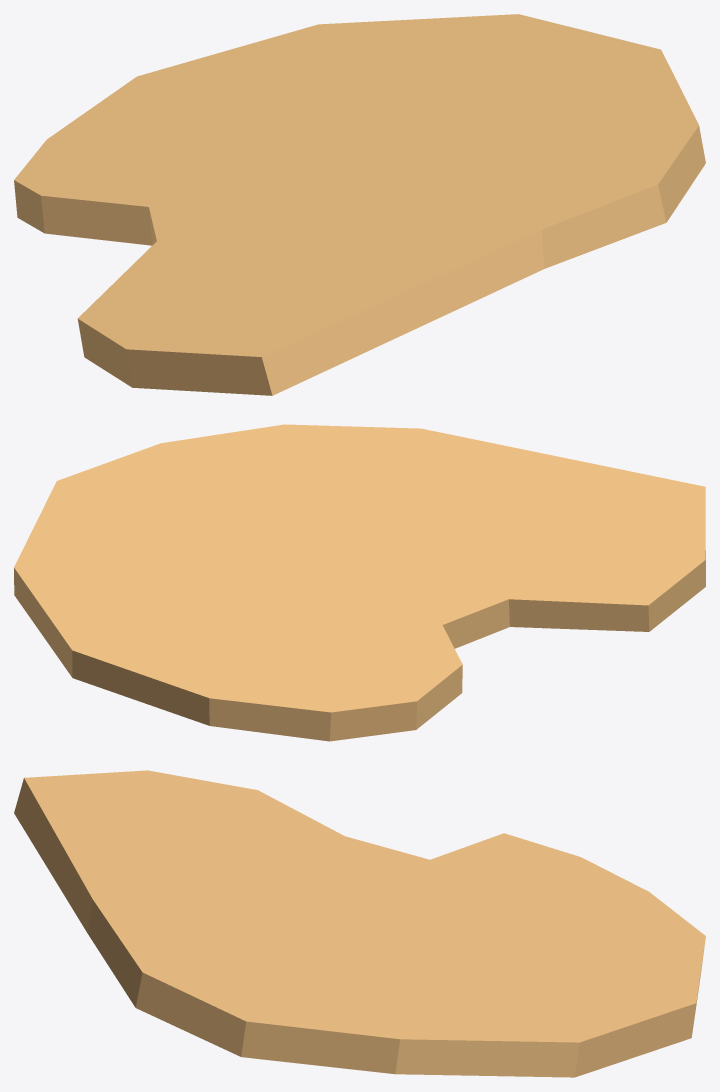
Rendered from group1574860539_lev3.glb.
The picture shows the model from 3 angles, top to bottom: view 1: azimuth 30°, elevation 25°; view 2: azimuth 150°, elevation 25°; view 3: azimuth 270°, elevation 25°; orthographic projection. The views are drawn at different scales.
Visible parts, largest first — view 1: group1574860539_lev3; view 2: group1574860539_lev3; view 3: group1574860539_lev3.
Part boxes in pixels (left/top/right/bottom): group1574860539_lev3: left=14, top=14, right=705, bottom=395; group1574860539_lev3: left=14, top=424, right=705, bottom=741; group1574860539_lev3: left=14, top=770, right=705, bottom=1077.
Bounding box in the file's own units: 5.18 × 0.9015 × 5.02.
